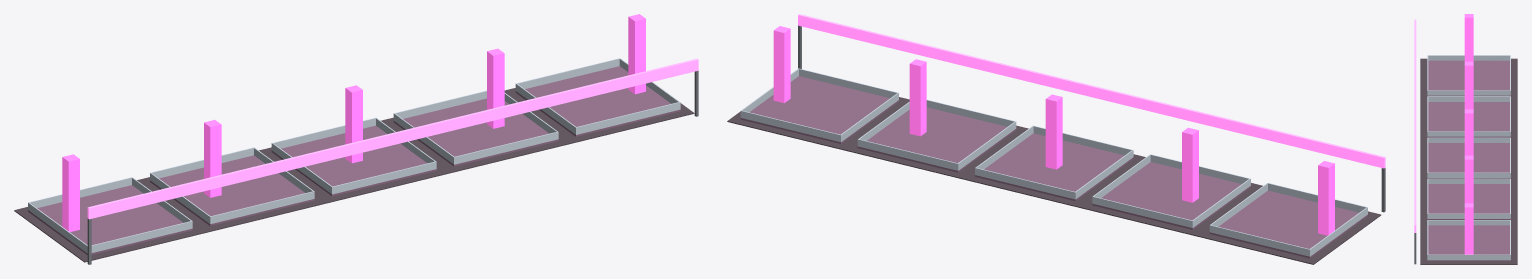
Rendered from pack-community-relationship-practice.glb.
The picture shows the model from 3 angles, left to right: view 1: azimuth 30°, elevation 25°; view 2: azimuth 150°, elevation 25°; view 3: azimuth 270°, elevation 25°; orthographic projection. The views are drawn at different scales.
Parts seen in each view (by area): view 1: Community & Relationship Practice; view 2: Community & Relationship Practice; view 3: Community & Relationship Practice.
Boxes of the visible parts, <box> form: Community & Relationship Practice: <box>14,14,698,264</box>; Community & Relationship Practice: <box>727,14,1385,264</box>; Community & Relationship Practice: <box>1414,14,1517,264</box>.
Bounding box in the file's own units: 70 × 8.3 × 14.9.
